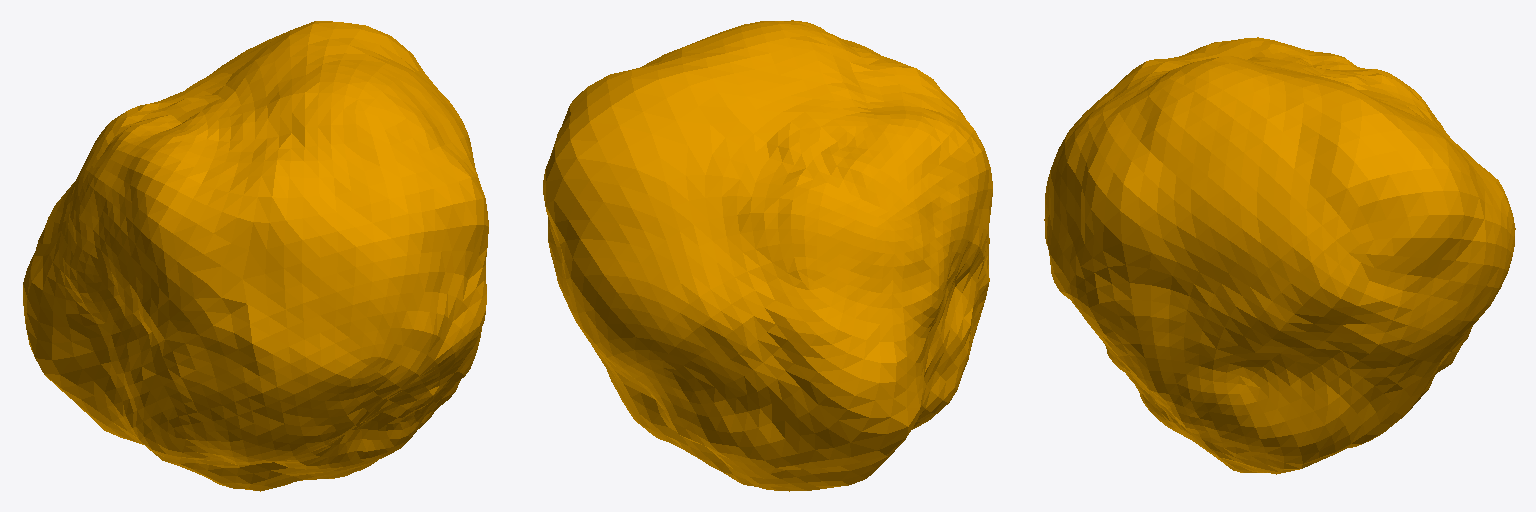
URDF robot description (rock):
<?xml version="1.0" ?>
<robot name="rock">
  <link name="rock">
    <inertial>
      <mass value="0.338"/>
      <origin rpy="0 0 0" xyz="0 0 0"/>
      <inertia ixx="0.000338" ixy="0" ixz="0" iyy="0.000338" iyz="0" izz="0.000338"/>
    </inertial>
    <collision name="rock_collision">
      <origin rpy="0 0 0" xyz="0 0 0"/>
      <geometry>
        <mesh filename="package://rocks/visual/119.dae" scale="1 1 1"/>
      </geometry>
    </collision>
    <visual name="rock_visual">
      <origin rpy="0 0 0" xyz="0 0 0"/>
      <geometry>
        <mesh filename="package://rocks/visual/119.dae" scale="1 1 1"/>
      </geometry>
    </visual>
  </link>
</robot>

--- What the picture shows (computed from the rendered views, not written in the file) ---
3 views of the same robot in one strip: view 1: azimuth 30°, elevation 25°; view 2: azimuth 150°, elevation 25°; view 3: azimuth 270°, elevation 25° (orthographic).
Model rock with 1 links and 0 joints (none), rooted at rock, posed all joints at 0.
Visible links, largest first — view 1: rock; view 2: rock; view 3: rock.
Boxes of the visible links, box(x1,y1,x2,y2) form: rock: box(23, 21, 488, 491); rock: box(543, 20, 992, 491); rock: box(1044, 37, 1515, 474).
Size in the robot's own frame: 0.069 by 0.0749 by 0.0681 metres.
Meshes: 1 distinct files referenced, 1 mesh visuals loaded (1 Collada DAE).